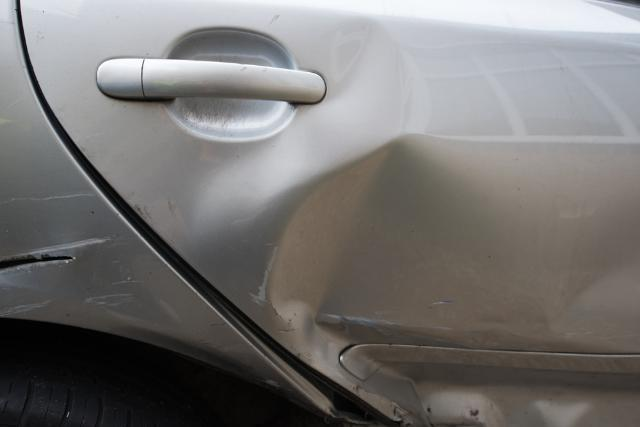crack: (0, 254, 78, 271)
dent: (175, 17, 640, 427)
scratch: (0, 235, 145, 320)
